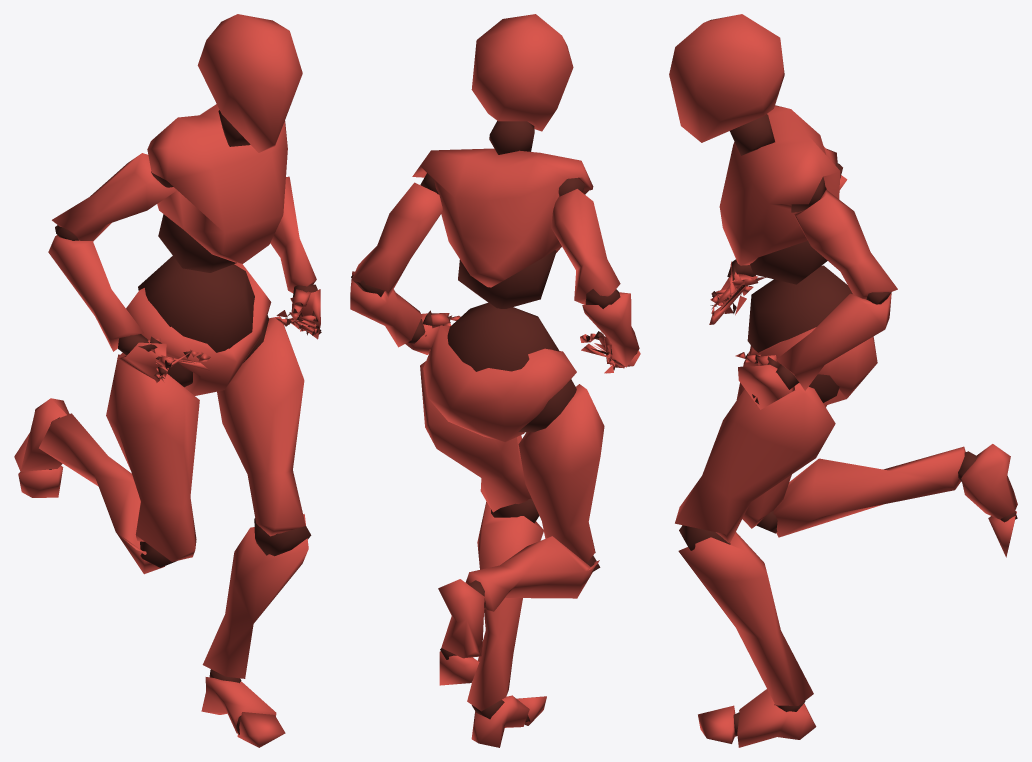
The picture shows the model from 3 angles, left to right: view 1: azimuth 30°, elevation 25°; view 2: azimuth 150°, elevation 25°; view 3: azimuth 270°, elevation 25°; orthographic projection. The views are drawn at different scales.
Parts seen in each view (by area): view 1: Beta_Surface.001; view 2: Beta_Surface.001; view 3: Beta_Surface.001.
Part boxes in pixels (bbox=[...]): Beta_Surface.001: bbox=[14, 14, 321, 747]; Beta_Surface.001: bbox=[350, 14, 640, 747]; Beta_Surface.001: bbox=[669, 14, 1017, 747].
Bounding box in the file's own units: 5.44 × 14.5 × 6.38.
